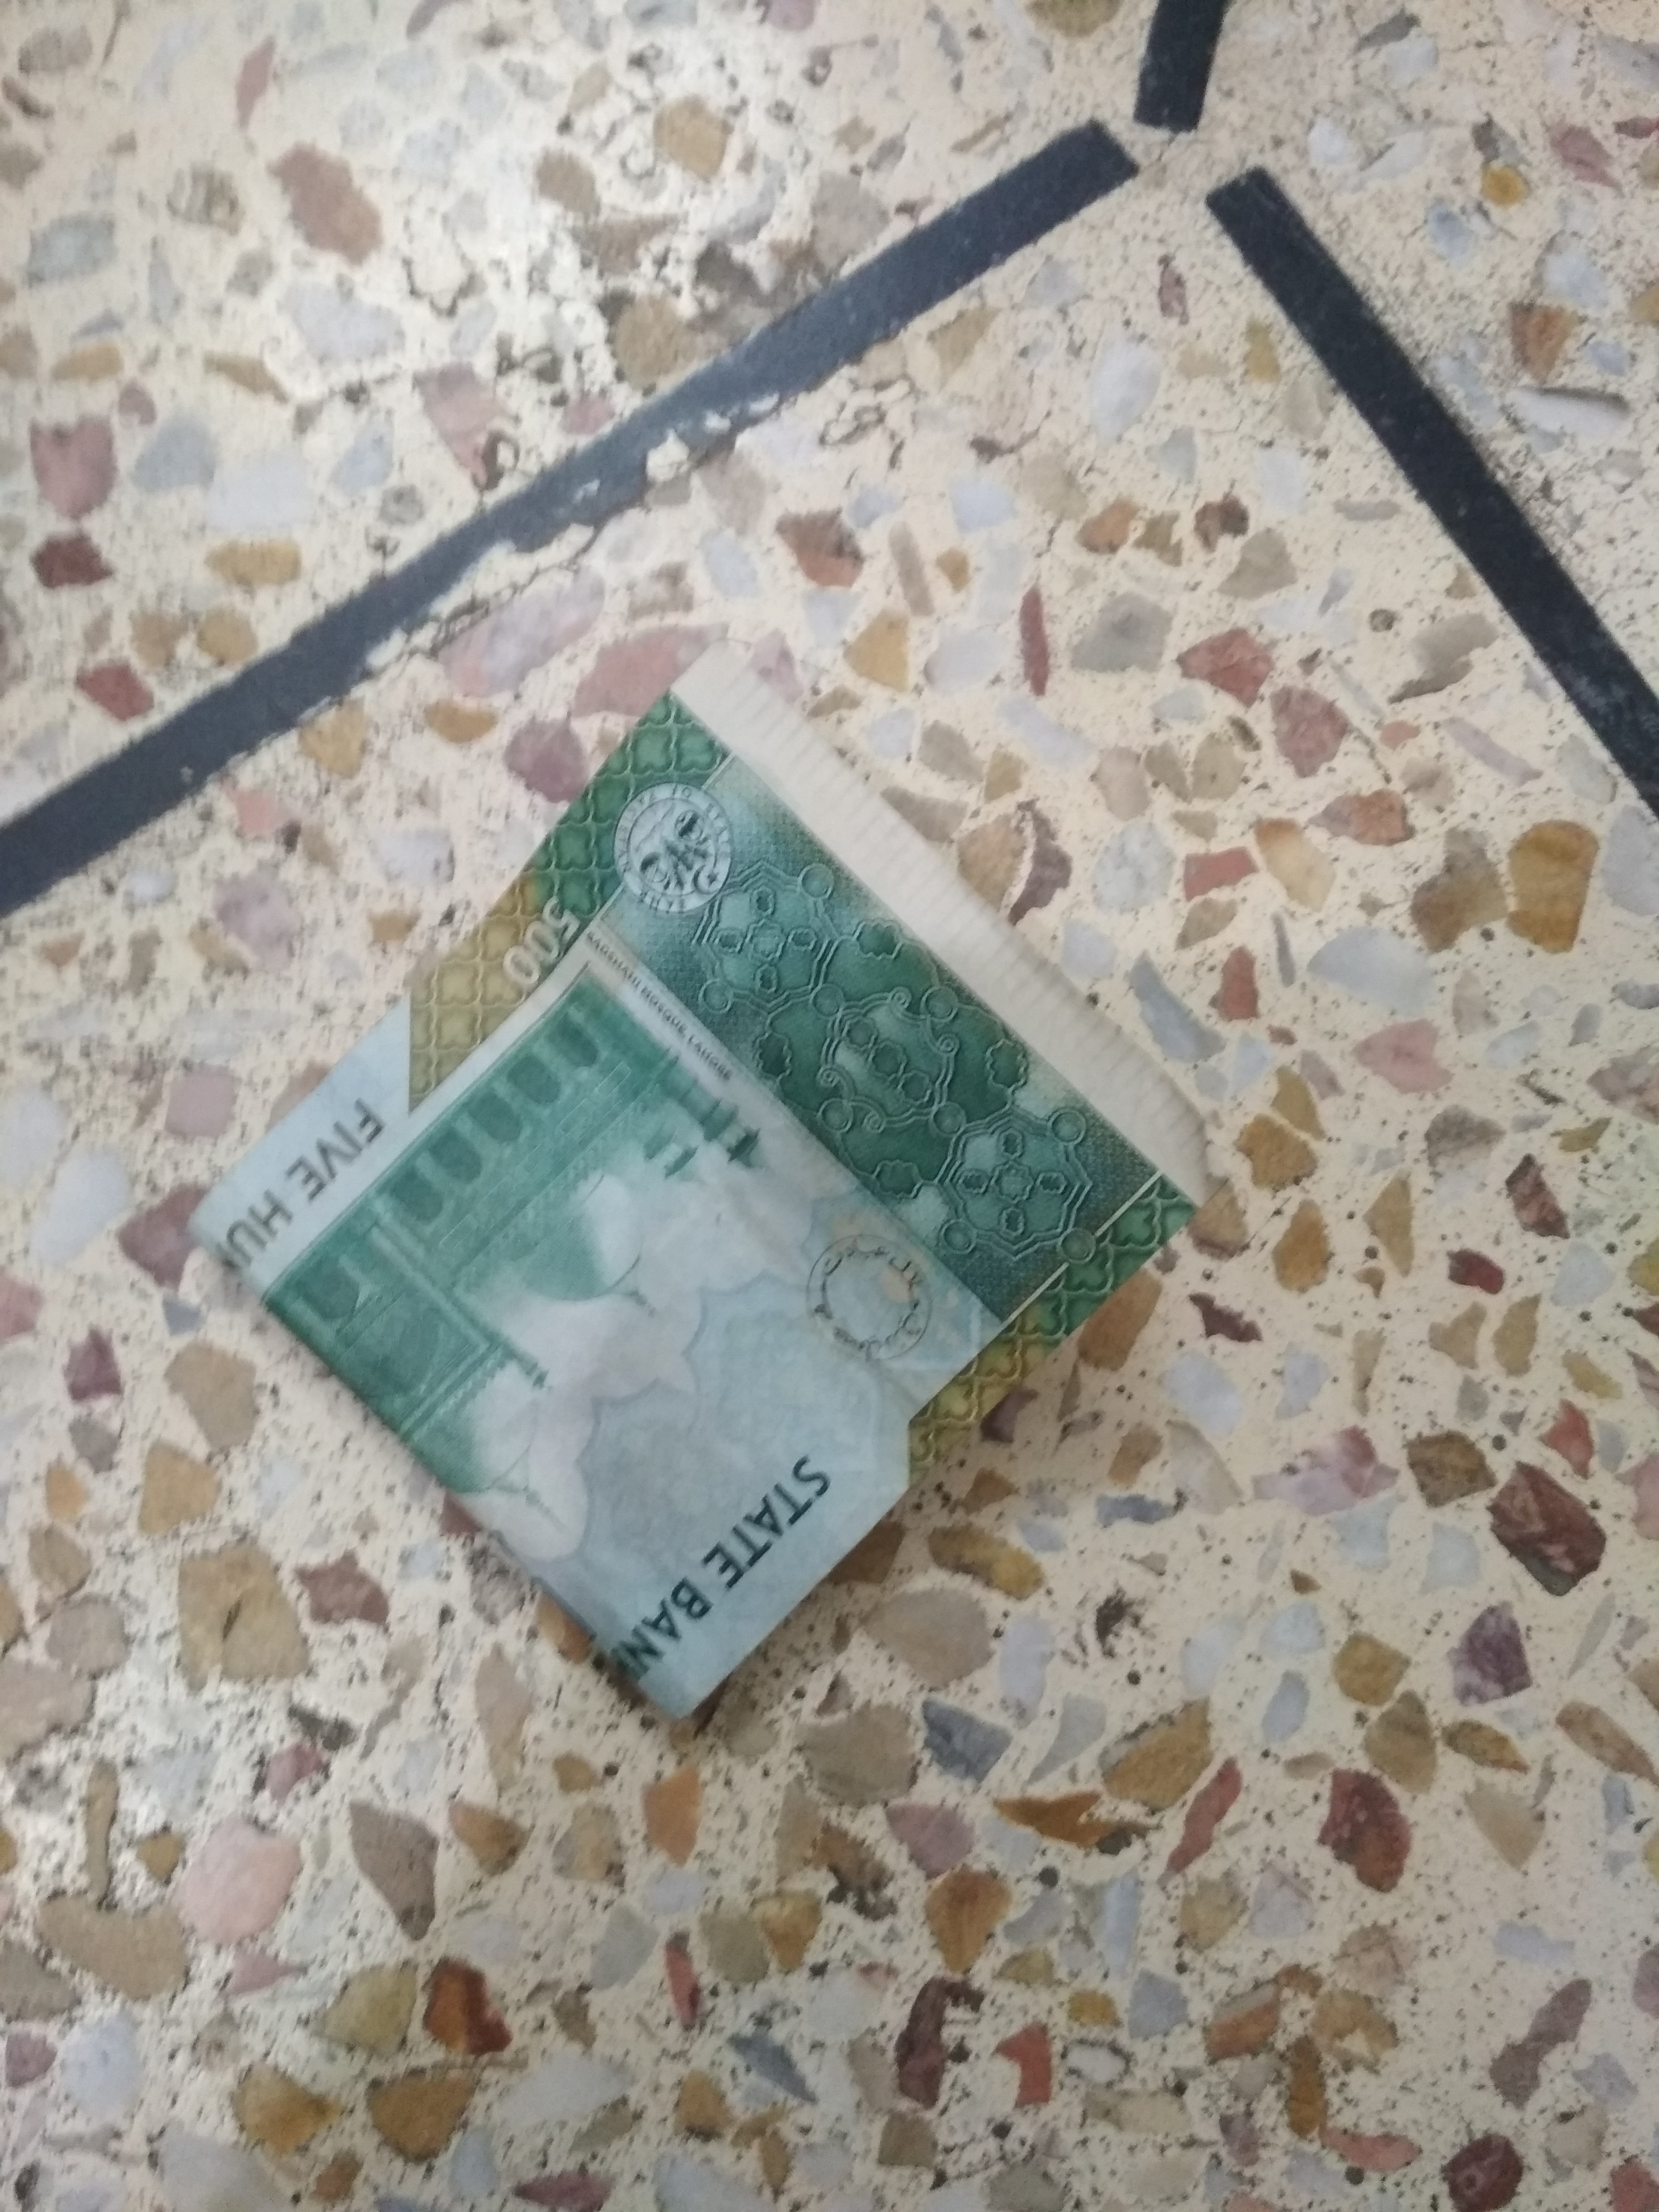500 rupee: (199, 678, 1206, 1750)
